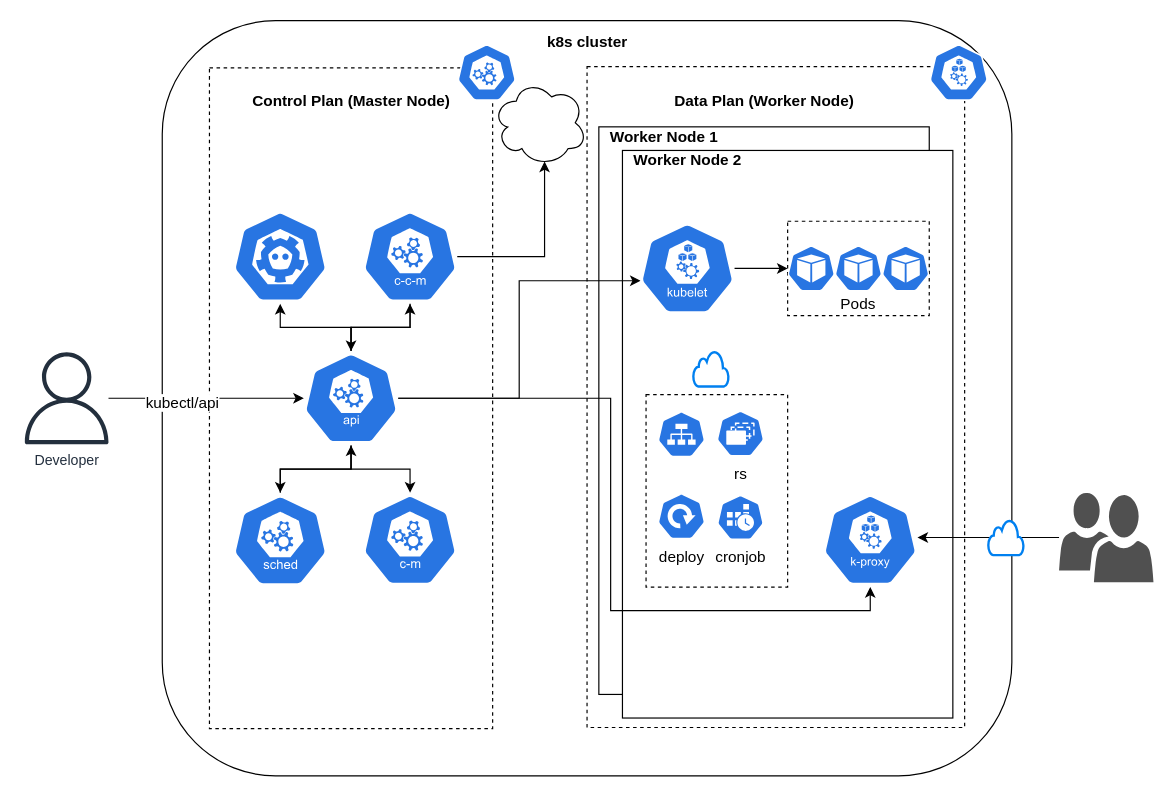
Some shapes in this 1173 by 796 pixel diagram are drawn without their labels. The shapes that lost their labels are listed below. From the top down, each one's centre as x and y in pixels, then its label:
At point (539, 122): "cloud provider api".
At point (681, 433): "svc".
At point (1105, 537): "End User".
